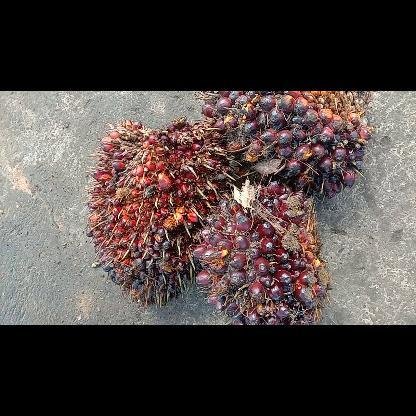Kurang masak: (190, 186, 332, 324), (200, 92, 374, 194)
TBS masak: (86, 118, 238, 310)
